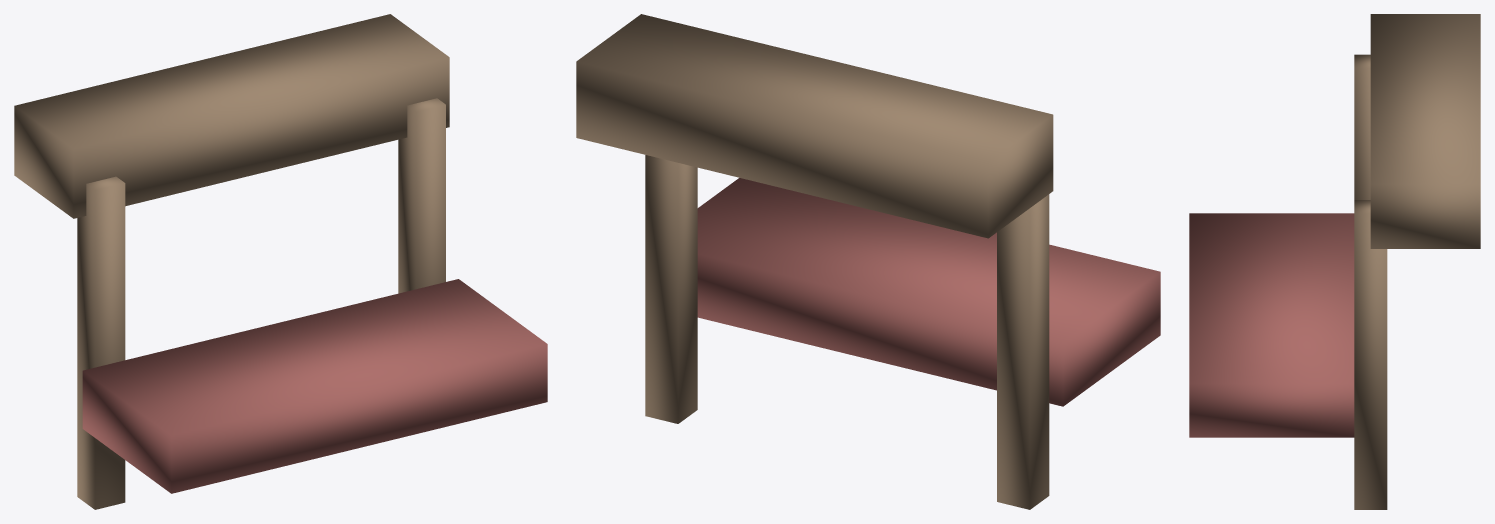
File: prayer_kneeler__compact.glb
The picture shows the model from 3 angles, left to right: view 1: azimuth 30°, elevation 25°; view 2: azimuth 150°, elevation 25°; view 3: azimuth 270°, elevation 25°; orthographic projection. The views are drawn at different scales.
Parts seen in each view (by area): view 1: world; view 2: world; view 3: world.
Boxes of the visible parts, <box> form: world: <box>14,14,547,509</box>; world: <box>576,14,1160,509</box>; world: <box>1189,14,1480,509</box>.
Bounding box in the file's own units: 0.63 × 0.572 × 0.4558.
